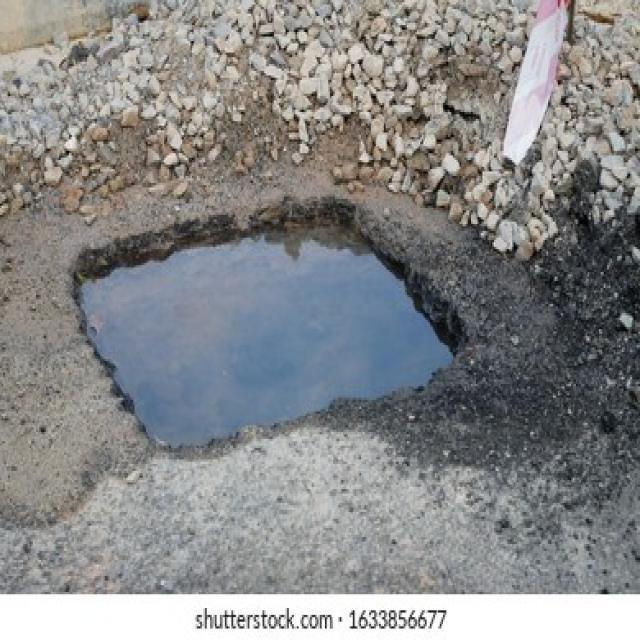Pothole: (66, 188, 472, 452)
